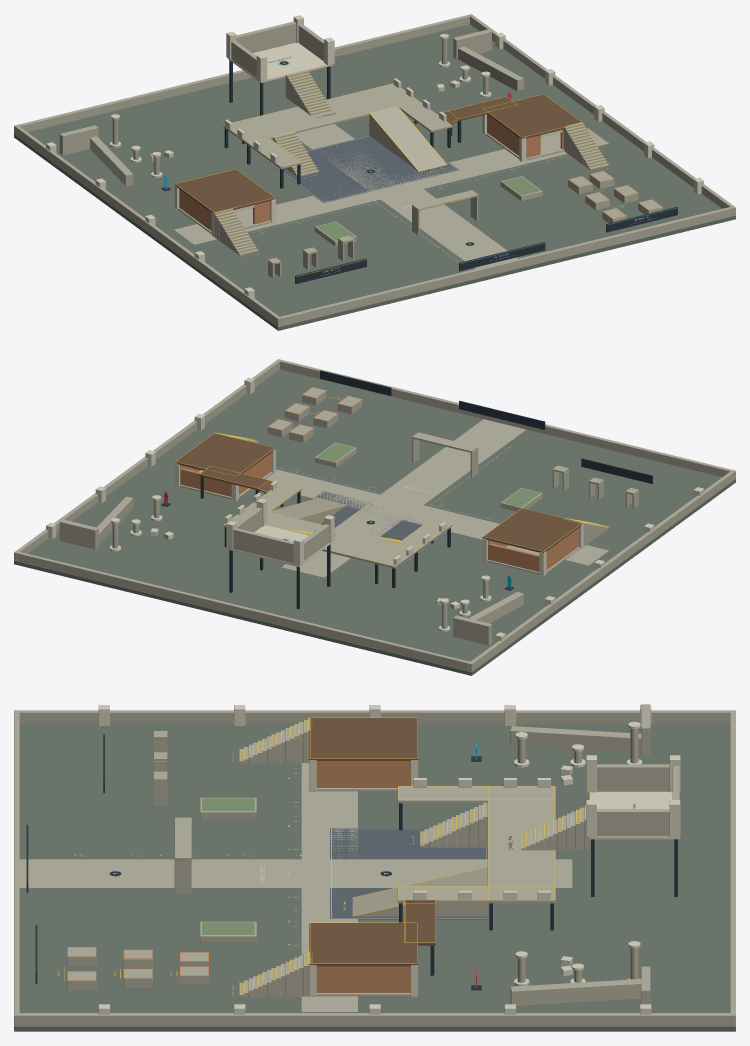
Rendered from rpg_grounds.glb.
The picture shows the model from 3 angles, top to bottom: view 1: azimuth 30°, elevation 25°; view 2: azimuth 150°, elevation 25°; view 3: azimuth 270°, elevation 25°; orthographic projection. The views are drawn at different scales.
Visible parts, largest first — view 1: rpg_grounds.foundation.0001, rpg_grounds.courtyard_paving.0004, rpg_grounds.main_stone_path.0002, rpg_grounds.end_retaining_wall.0010, rpg_grounds.cross_stone_path.0003, rpg_grounds.end_retaining_wall.0085, rpg_grounds.north_terrace_3m_deck.0159, rpg_grounds.edge_retaining_wall.0009, rpg_grounds.edge_retaining_wall.0084, rpg_grounds.courtyard_ramp_14deg.0199, rpg_grounds.west_hall_roof_deck.0042, rpg_grounds.east_hall_roof_deck.0117 (+18 smaller); view 2: rpg_grounds.foundation.0001, rpg_grounds.main_stone_path.0002, rpg_grounds.end_retaining_wall.0085, rpg_grounds.cross_stone_path.0003, rpg_grounds.end_retaining_wall.0010, rpg_grounds.edge_retaining_wall.0009, rpg_grounds.edge_retaining_wall.0084, rpg_grounds.west_hall_roof_deck.0042, rpg_grounds.east_hall_roof_deck.0117, rpg_grounds.north_terrace_3m_deck.0159, rpg_grounds.courtyard_paving.0004, rpg_grounds.tower_rear_wall.0243 (+17 smaller); view 3: rpg_grounds.foundation.0001, rpg_grounds.main_stone_path.0002, rpg_grounds.edge_retaining_wall.0084, rpg_grounds.edge_retaining_wall.0009, rpg_grounds.cross_stone_path.0003, rpg_grounds.north_terrace_3m_deck.0159, rpg_grounds.courtyard_paving.0004, rpg_grounds.east_hall_roof_deck.0117, rpg_grounds.west_hall_roof_deck.0042, rpg_grounds.broken_ruin_wall.0454, rpg_grounds.courtyard_ramp_14deg.0199, rpg_grounds.east_hall_side.0111 (+21 smaller).
Boxes of the visible parts, x1,y1,x2,y2 form: rpg_grounds.foundation.0001: (14, 24, 735, 330); rpg_grounds.courtyard_paving.0004: (266, 135, 458, 202); rpg_grounds.main_stone_path.0002: (296, 124, 517, 268); rpg_grounds.end_retaining_wall.0010: (280, 207, 732, 326); rpg_grounds.cross_stone_path.0003: (174, 128, 608, 244); rpg_grounds.end_retaining_wall.0085: (18, 15, 469, 132); rpg_grounds.north_terrace_3m_deck.0159: (224, 84, 417, 142); rpg_grounds.edge_retaining_wall.0009: (14, 125, 281, 326); rpg_grounds.edge_retaining_wall.0084: (468, 14, 735, 216); rpg_grounds.courtyard_ramp_14deg.0199: (369, 106, 446, 171); rpg_grounds.west_hall_roof_deck.0042: (175, 169, 275, 213); rpg_grounds.east_hall_roof_deck.0117: (483, 94, 581, 138); rpg_grounds.foundation.0001: (14, 369, 735, 675); rpg_grounds.main_stone_path.0002: (281, 419, 526, 577); rpg_grounds.end_retaining_wall.0085: (17, 552, 469, 671); rpg_grounds.cross_stone_path.0003: (174, 464, 608, 565); rpg_grounds.end_retaining_wall.0010: (280, 360, 731, 477); rpg_grounds.edge_retaining_wall.0009: (468, 470, 735, 671); rpg_grounds.edge_retaining_wall.0084: (14, 359, 281, 561); rpg_grounds.west_hall_roof_deck.0042: (482, 508, 582, 552); rpg_grounds.east_hall_roof_deck.0117: (175, 433, 275, 476); rpg_grounds.north_terrace_3m_deck.0159: (223, 507, 416, 567); rpg_grounds.courtyard_paving.0004: (312, 491, 447, 566); rpg_grounds.tower_rear_wall.0243: (233, 528, 293, 563); rpg_grounds.foundation.0001: (14, 723, 735, 1031); rpg_grounds.main_stone_path.0002: (19, 859, 572, 888); rpg_grounds.edge_retaining_wall.0084: (14, 1013, 735, 1026); rpg_grounds.edge_retaining_wall.0009: (14, 710, 735, 723); rpg_grounds.cross_stone_path.0003: (301, 763, 357, 1012); rpg_grounds.north_terrace_3m_deck.0159: (487, 787, 555, 903); rpg_grounds.courtyard_paving.0004: (330, 828, 487, 919); rpg_grounds.east_hall_roof_deck.0117: (309, 923, 417, 966); rpg_grounds.west_hall_roof_deck.0042: (309, 718, 417, 760); rpg_grounds.broken_ruin_wall.0454: (510, 979, 641, 1006); rpg_grounds.courtyard_ramp_14deg.0199: (352, 867, 487, 916); rpg_grounds.east_hall_side.0111: (316, 966, 410, 992).
Bounding box in the file's own units: 64 × 9.7 × 64.
